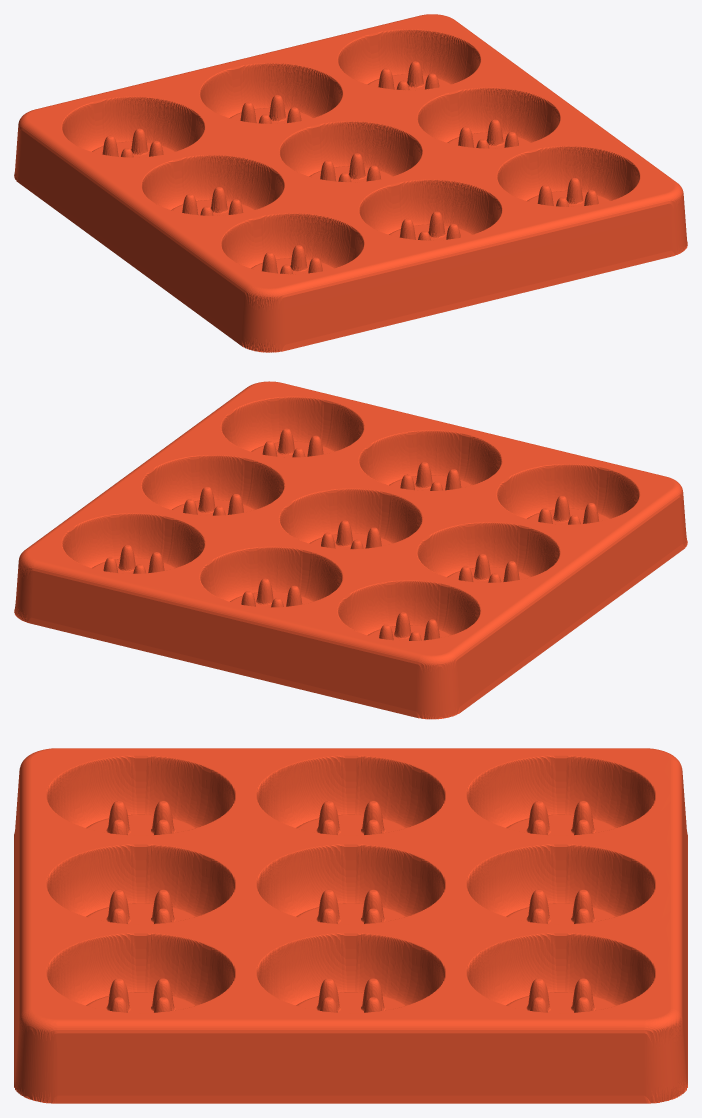
File: mold.glb
The picture shows the model from 3 angles, top to bottom: view 1: azimuth 30°, elevation 25°; view 2: azimuth 150°, elevation 25°; view 3: azimuth 270°, elevation 25°; orthographic projection. The views are drawn at different scales.
Parts seen in each view (by area): view 1: geometry_0; view 2: geometry_0; view 3: geometry_0.
Part boxes in pixels (<box>): geometry_0: <box>14,14,687,352</box>; geometry_0: <box>14,381,687,719</box>; geometry_0: <box>14,748,687,1103</box>.
Size of the model in its own units: 0.1387 by 0.0175 by 0.1387.
